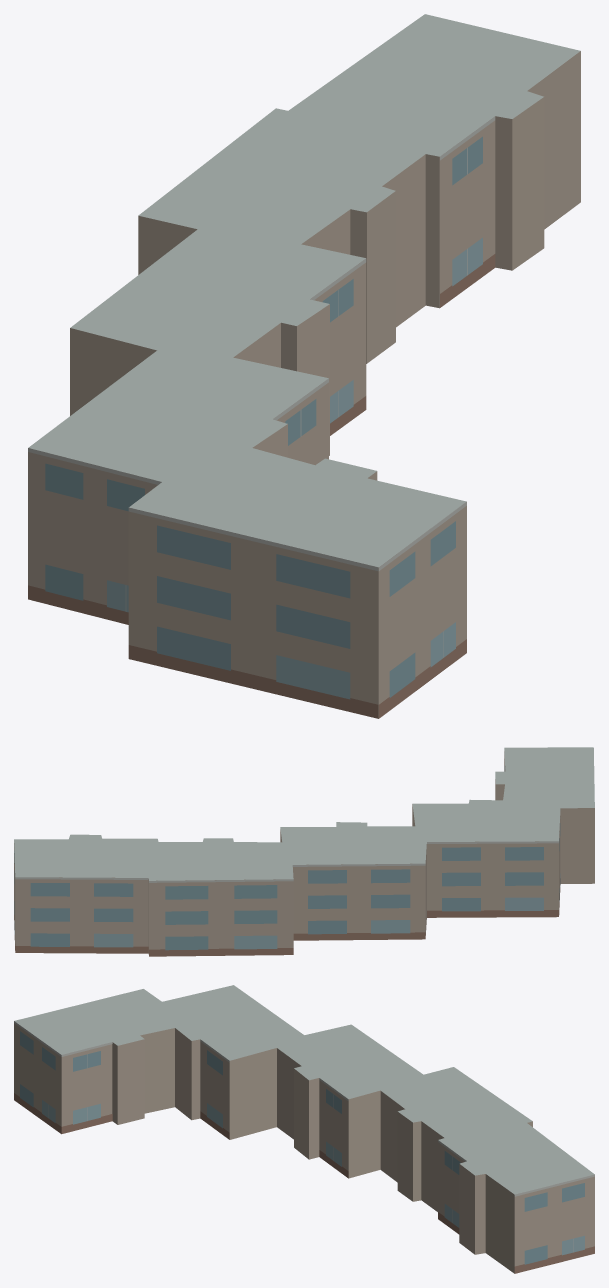
Rendered from survey-upis-32600587.glb.
The picture shows the model from 3 angles, top to bottom: view 1: azimuth 30°, elevation 25°; view 2: azimuth 150°, elevation 25°; view 3: azimuth 270°, elevation 25°; orthographic projection. The views are drawn at different scales.
Visible parts, largest first — view 1: survey-upis-32600587.tmp; view 2: survey-upis-32600587.tmp; view 3: survey-upis-32600587.tmp.
Part boxes in pixels (box(x1,y1,x2,y2)): survey-upis-32600587.tmp: box(28, 14, 580, 718); survey-upis-32600587.tmp: box(14, 747, 594, 956); survey-upis-32600587.tmp: box(14, 985, 594, 1273).
Size of the model in its own units: 51.91 by 9.15 by 60.8.
